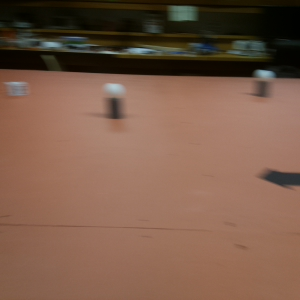blockF: (10, 80, 30, 97)
obstacle: (105, 84, 127, 118), (255, 70, 274, 99)
start: (255, 164, 300, 194)
